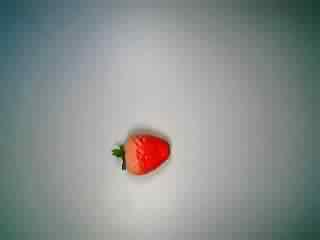strawberry: (109, 119, 177, 183)
